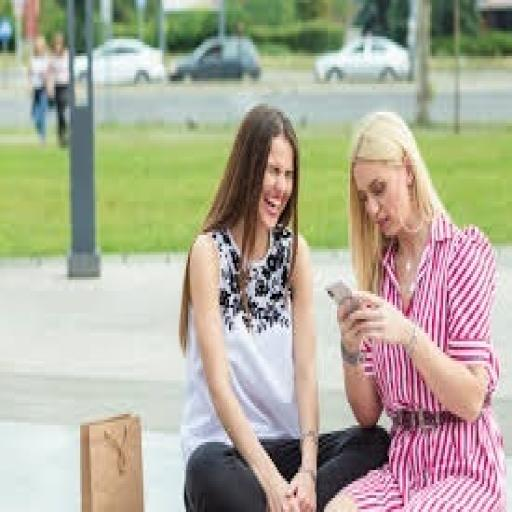laughing: (171, 92, 505, 510)
